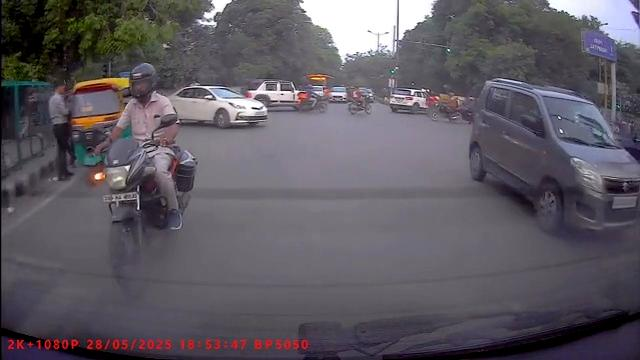motorcycle_with_helmet: (90, 60, 199, 287)
